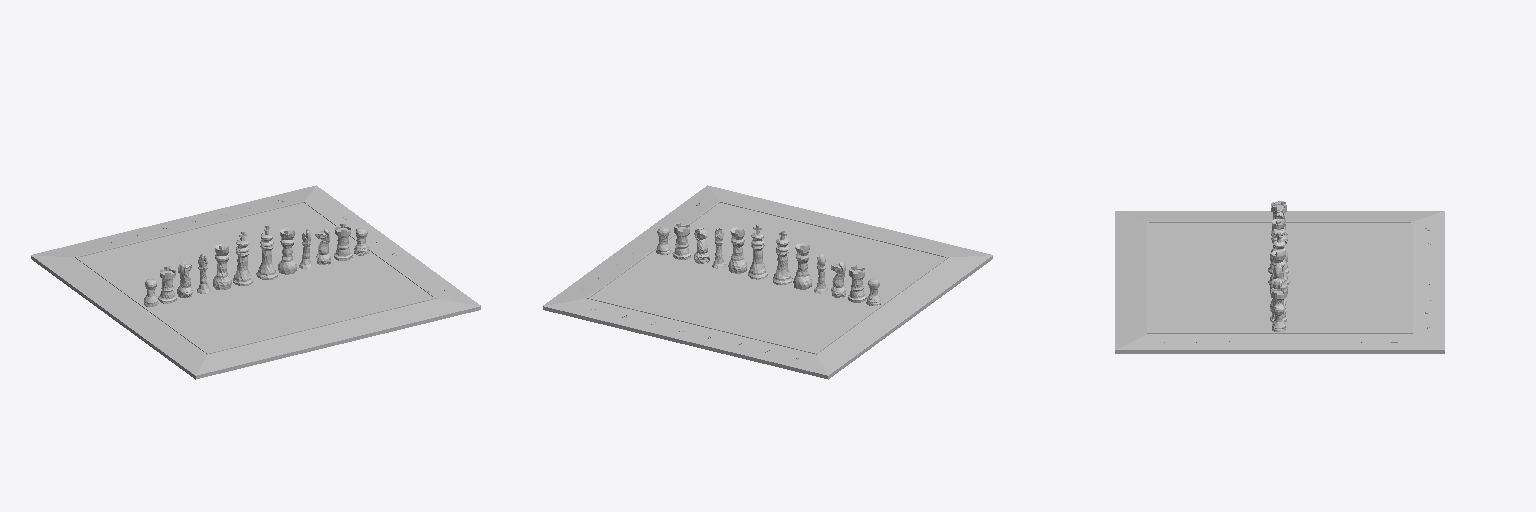
The model's file is Chess_set_OBJ.obj.
The picture shows the model from 3 angles: view 1: azimuth 30°, elevation 25°; view 2: azimuth 150°, elevation 25°; view 3: azimuth 270°, elevation 25°; orthographic projection.
Visible parts, largest first — view 1: Checkered_board_Plane, King_dark_Plane.017, King_light_Plane.009, Queen_dark_Plane.008, Queen_white_Plane.018; view 2: Checkered_board_Plane, King_dark_Plane.017, King_light_Plane.009, Queen_dark_Plane.008, Queen_white_Plane.018; view 3: Checkered_board_Plane.
Boxes of the visible parts, <box> form: Checkered_board_Plane: <box>31,185,480,379</box>; King_dark_Plane.017: <box>233,231,252,285</box>; King_light_Plane.009: <box>256,225,277,279</box>; Queen_dark_Plane.008: <box>278,228,296,274</box>; Queen_white_Plane.018: <box>213,244,231,289</box>; Checkered_board_Plane: <box>543,185,992,379</box>; King_dark_Plane.017: <box>773,230,792,284</box>; King_light_Plane.009: <box>748,224,767,279</box>; Queen_dark_Plane.008: <box>728,227,746,273</box>; Queen_white_Plane.018: <box>793,243,811,289</box>; Checkered_board_Plane: <box>1115,211,1444,353</box>.
Size of the model in its own units: 601 by 114 by 601.